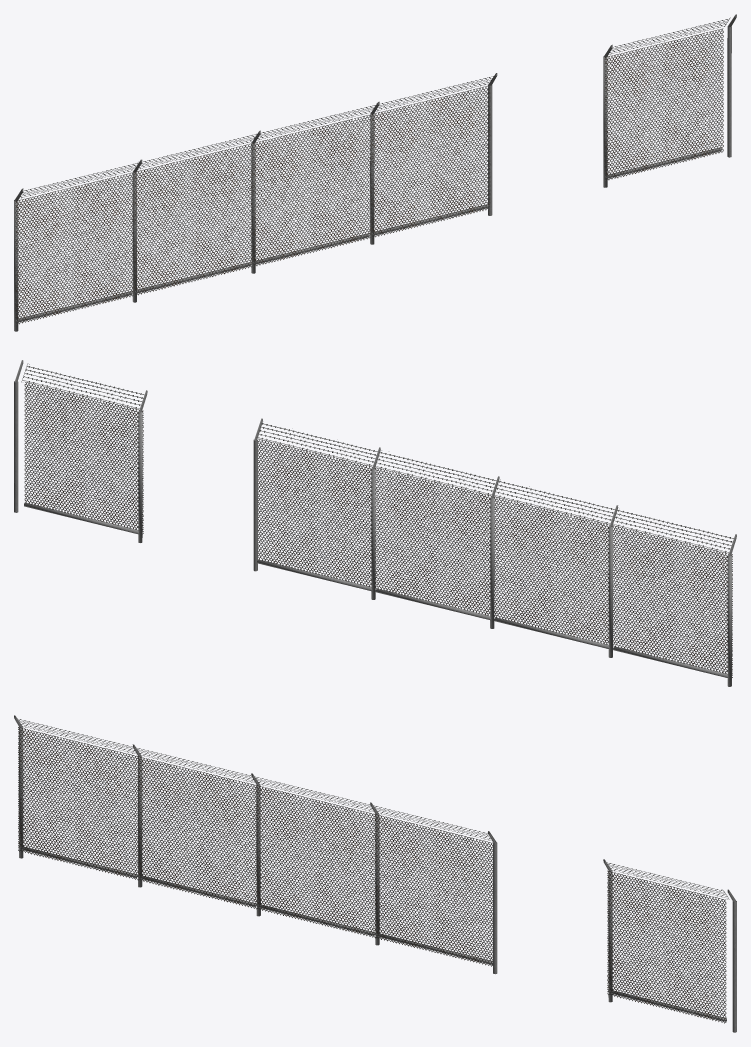
Rendered from chainlink_fence_tileable.glb.
3 views of the same model, one above another, from view 1: azimuth 30°, elevation 25°; view 2: azimuth 150°, elevation 25°; view 3: azimuth 330°, elevation 25° (orthographic).
Visible parts, largest first — view 1: Plane.007, Plane.004, Plane.005, Plane.010, Plane.006, Cylinder.001, Cylinder.004; view 2: Plane.007, Plane.004, Plane.010, Plane.006, Plane.005, Cylinder.001, Cylinder.004; view 3: Plane.006, Plane.004, Plane.007, Plane.005, Plane.010, Cylinder.001, Cylinder.004.
Boxes of the visible parts, bbox=[...] form: Plane.007: bbox=[603, 17, 730, 187]; Plane.004: bbox=[251, 103, 376, 273]; Plane.005: bbox=[132, 134, 256, 302]; Plane.010: bbox=[370, 76, 494, 244]; Plane.006: bbox=[14, 162, 139, 331]; Cylinder.001: bbox=[727, 14, 736, 157]; Cylinder.004: bbox=[488, 73, 497, 215]; Plane.007: bbox=[21, 363, 147, 542]; Plane.004: bbox=[375, 449, 499, 628]; Plane.010: bbox=[257, 423, 380, 599]; Plane.006: bbox=[612, 507, 736, 686]; Plane.005: bbox=[494, 479, 618, 657]; Cylinder.001: bbox=[14, 360, 23, 512]; Cylinder.004: bbox=[253, 418, 262, 571]; Plane.006: bbox=[14, 715, 137, 879]; Plane.004: bbox=[251, 773, 374, 937]; Plane.007: bbox=[603, 859, 729, 1023]; Plane.005: bbox=[132, 744, 256, 908]; Plane.010: bbox=[370, 802, 495, 966]; Cylinder.001: bbox=[727, 889, 736, 1032]; Cylinder.004: bbox=[488, 831, 497, 974].
Bounding box in the file's own units: 12.08 × 2.36 × 0.2262.
1 material, 1 textured.
